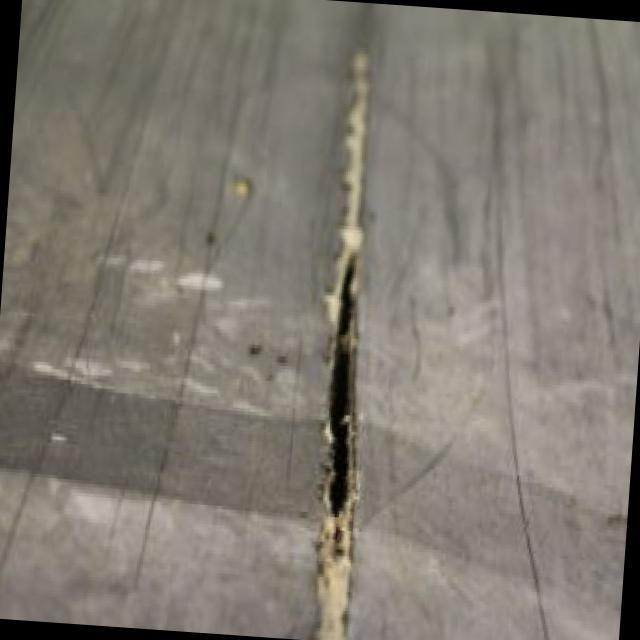Tear: (320, 242, 364, 556)
